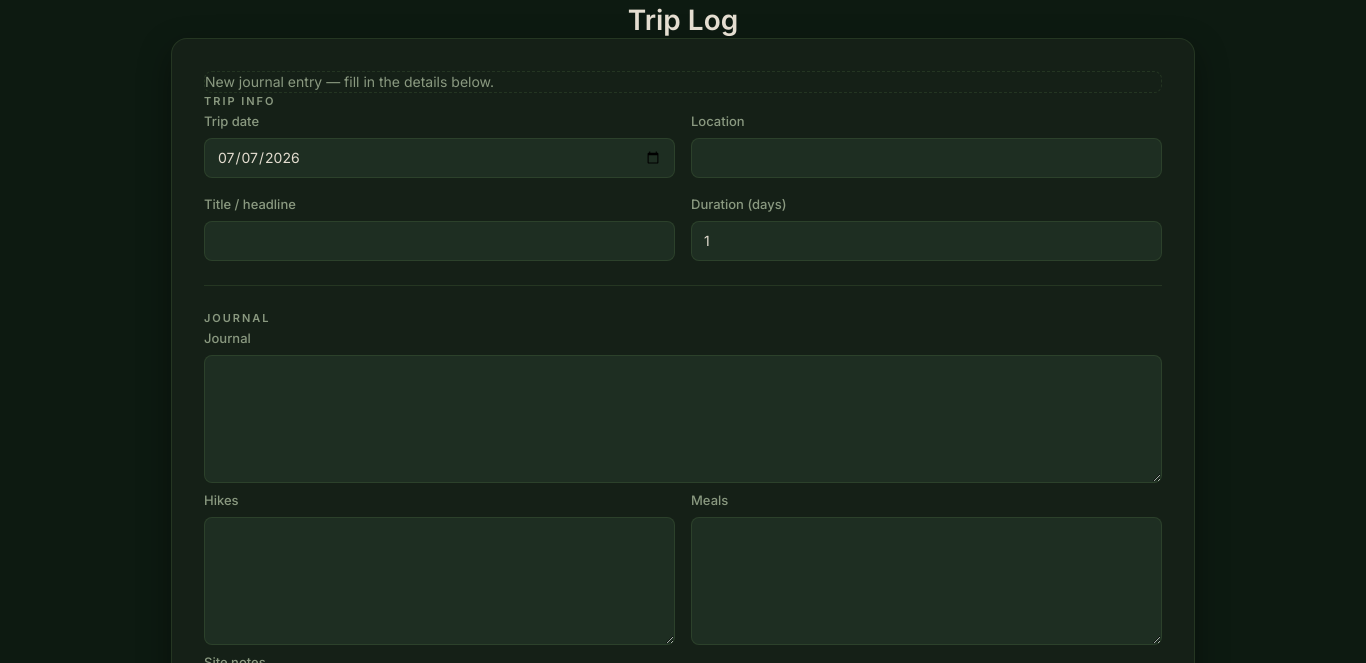
LogPage › renders the journal form and saves an entry
Type "2026-07-10" into the date field labelled "Trip date". click: (440, 158)
box: left=204, top=138, right=675, bottom=178
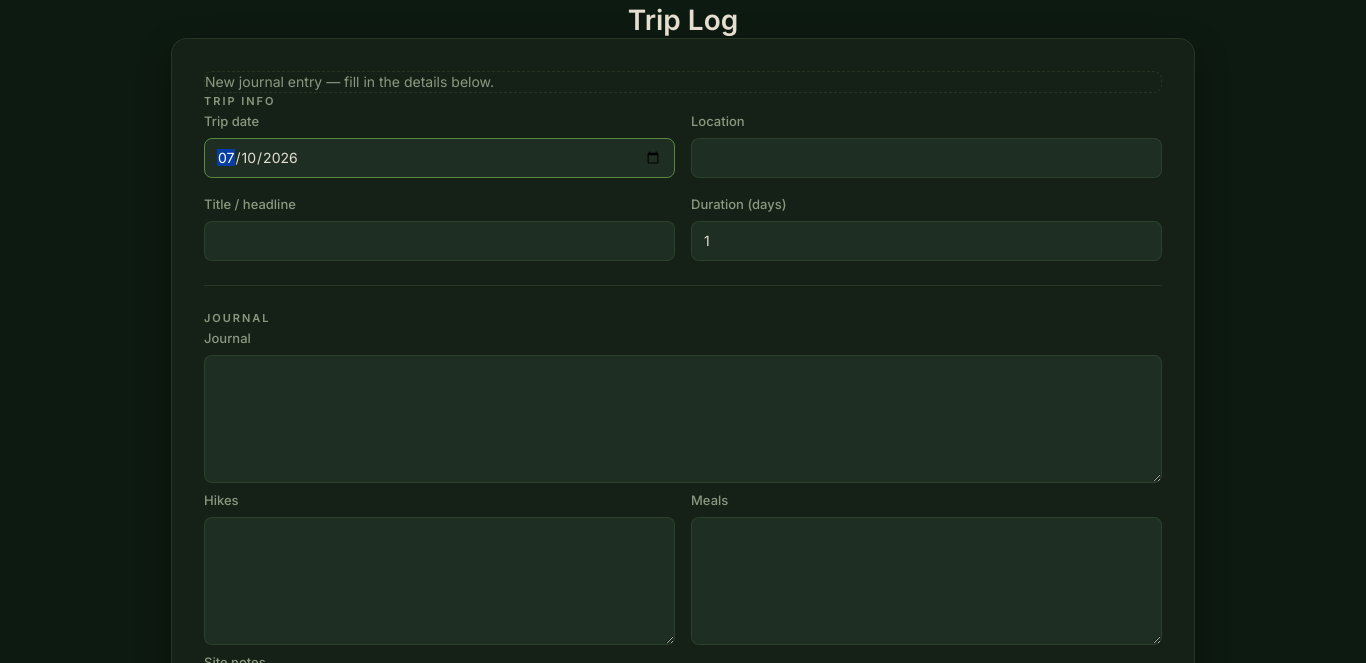
Type "Hocking Hills State Park" into the field labelled "Location". click: (926, 158)
box: left=691, top=138, right=1162, bottom=178
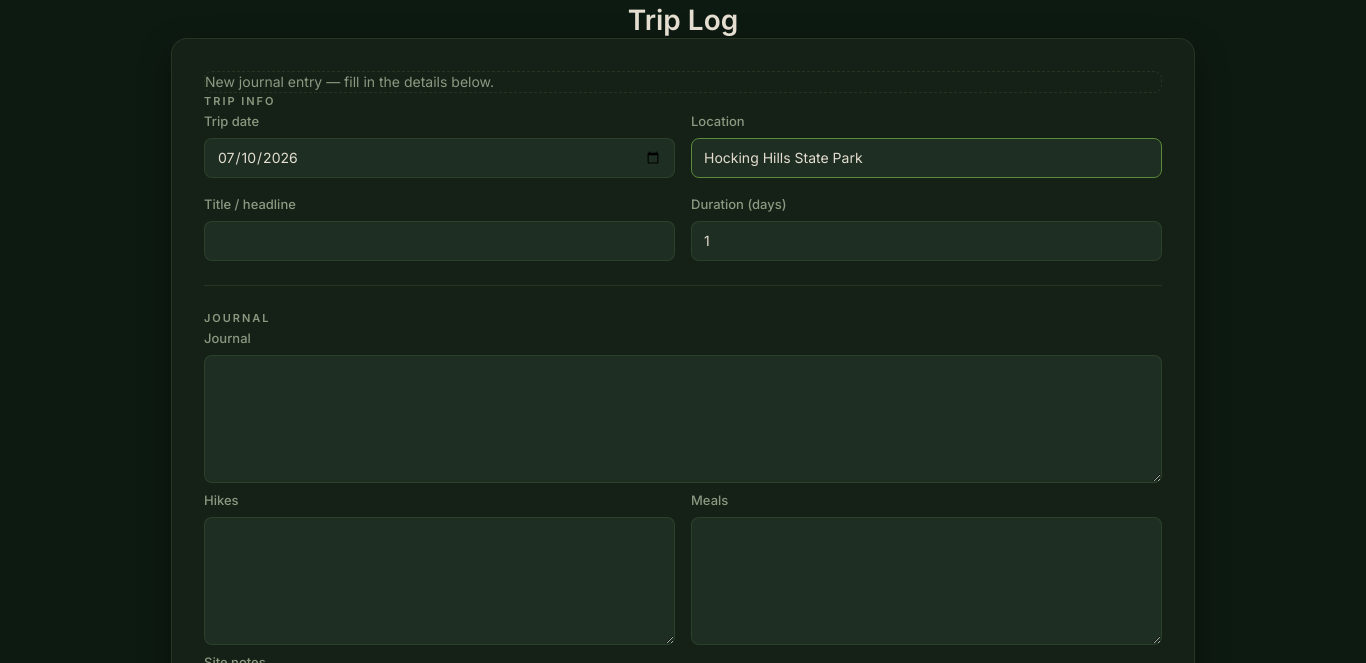
Type "Campfire night" into the field labelled "Title / headline". click: (440, 241)
box: left=204, top=221, right=675, bottom=261
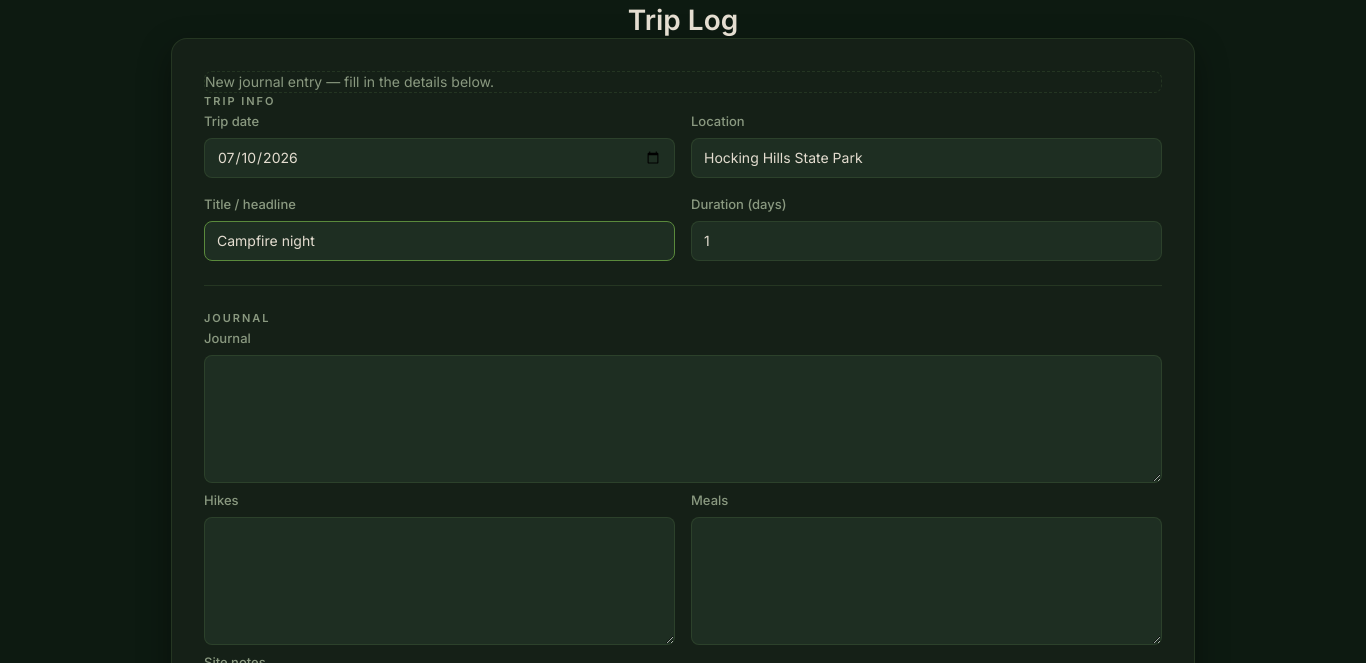
Type "Warm evening at the site." into the text box labelled "Journal". click: (683, 419)
box: left=204, top=355, right=1162, bottom=483
(page scrolled)
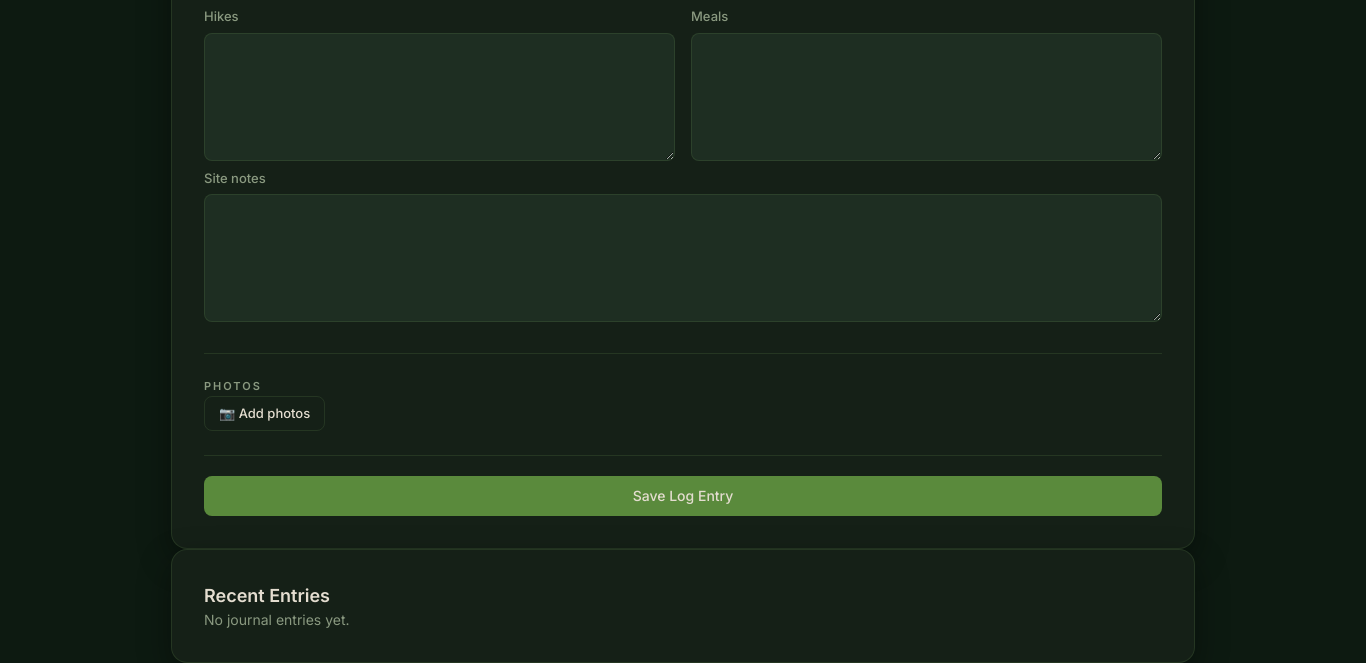
// Photo upload is now a file input — skip file system interaction in unit test
Click the button "Save Log Entry". click: (683, 496)
box: left=204, top=476, right=1162, bottom=516
(page scrolled)
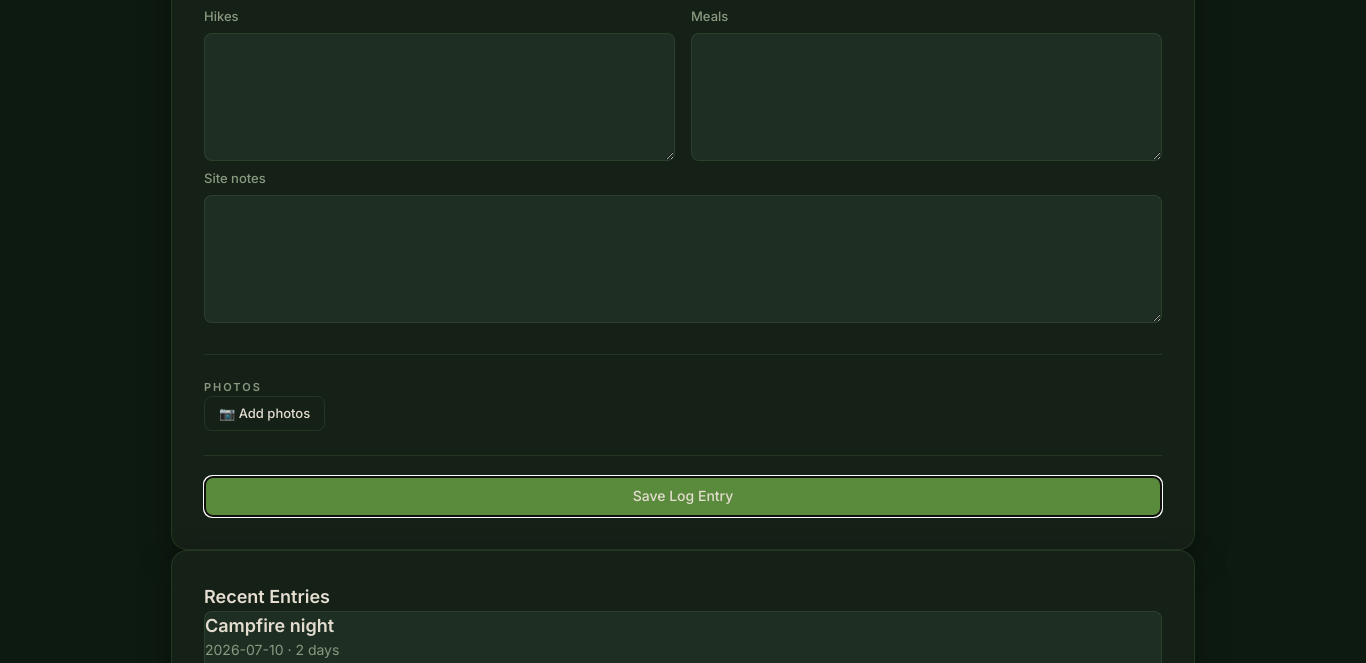
Check: the heading "Campfire night" is shown, box left=205, top=614, right=334, bottom=636
